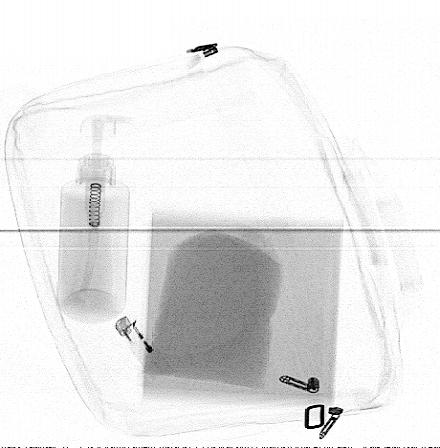Lighter: (114, 312, 166, 373)
